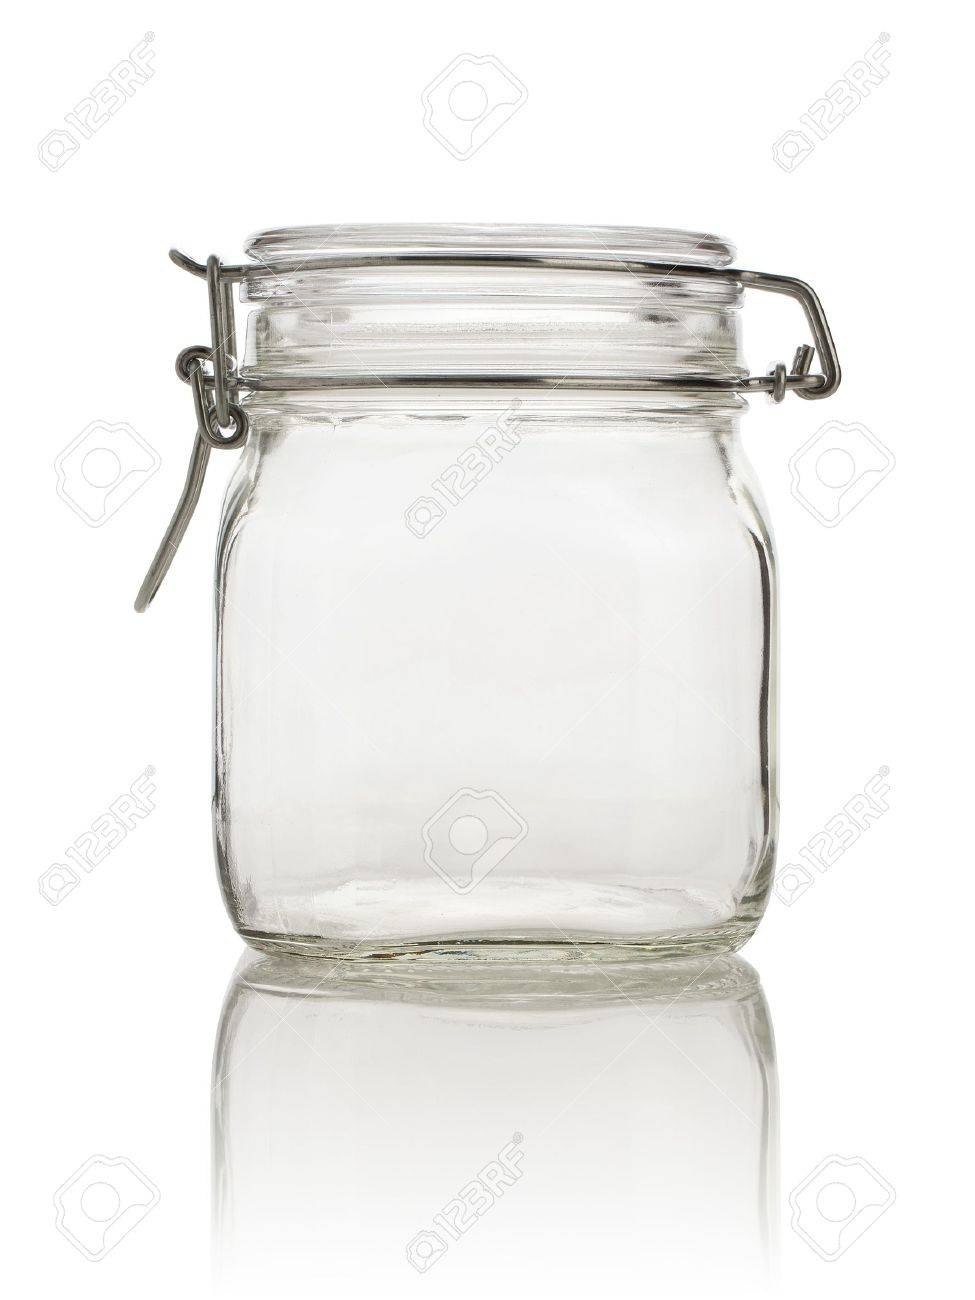Rec_Glass: (136, 200, 835, 993)
